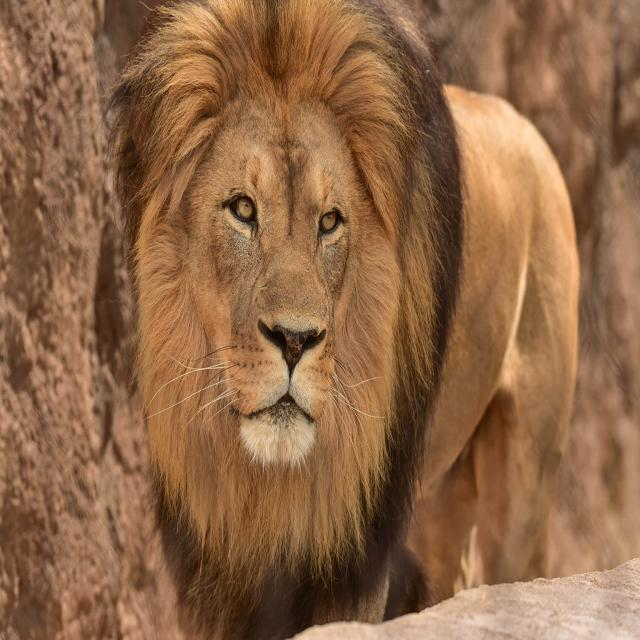Lion: (100, 0, 582, 638)
